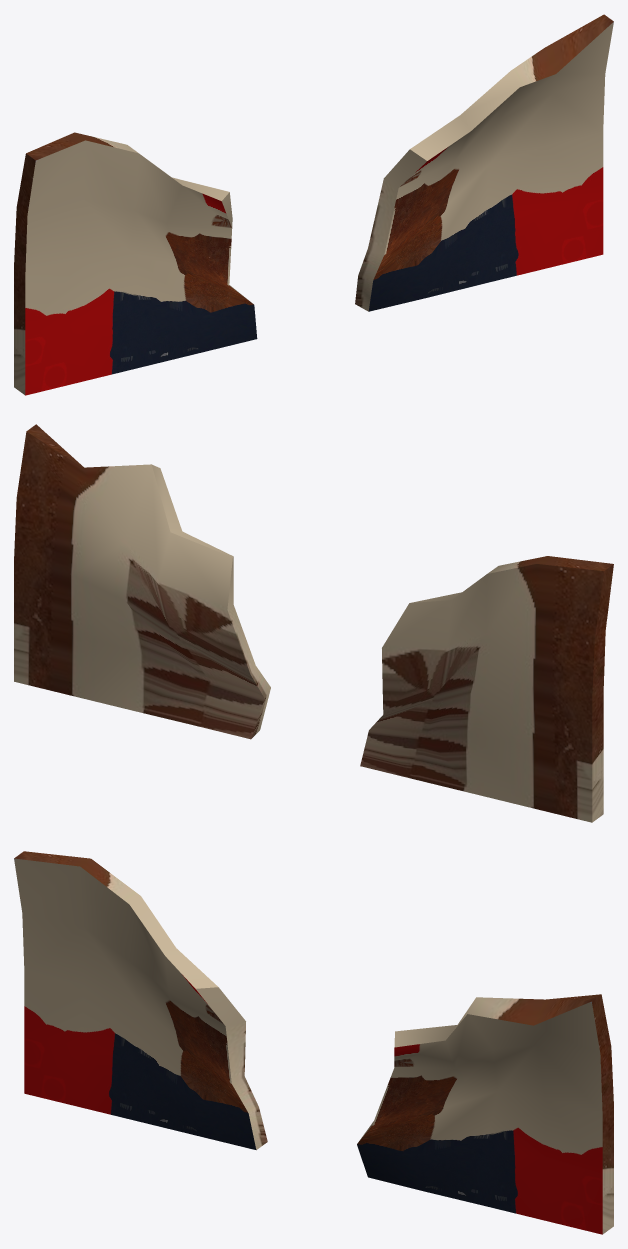
The model's file is wall-broken.fbx.
The picture shows the model from 3 angles, top to bottom: view 1: azimuth 30°, elevation 25°; view 2: azimuth 150°, elevation 25°; view 3: azimuth 330°, elevation 25°; orthographic projection.
Visible parts, largest first — view 1: pCube1; view 2: pCube1; view 3: pCube1.
Part boxes in pixels (box(x1,y1,x2,y2)): pCube1: box(14, 14, 613, 395); pCube1: box(14, 424, 613, 822); pCube1: box(14, 851, 613, 1234).
Size of the model in its own units: 59.81 by 24 by 7.4.
